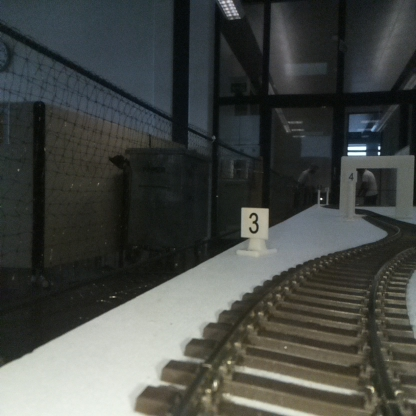white-info-4: (345, 170, 357, 220)
white-stop-3: (241, 208, 268, 254)
